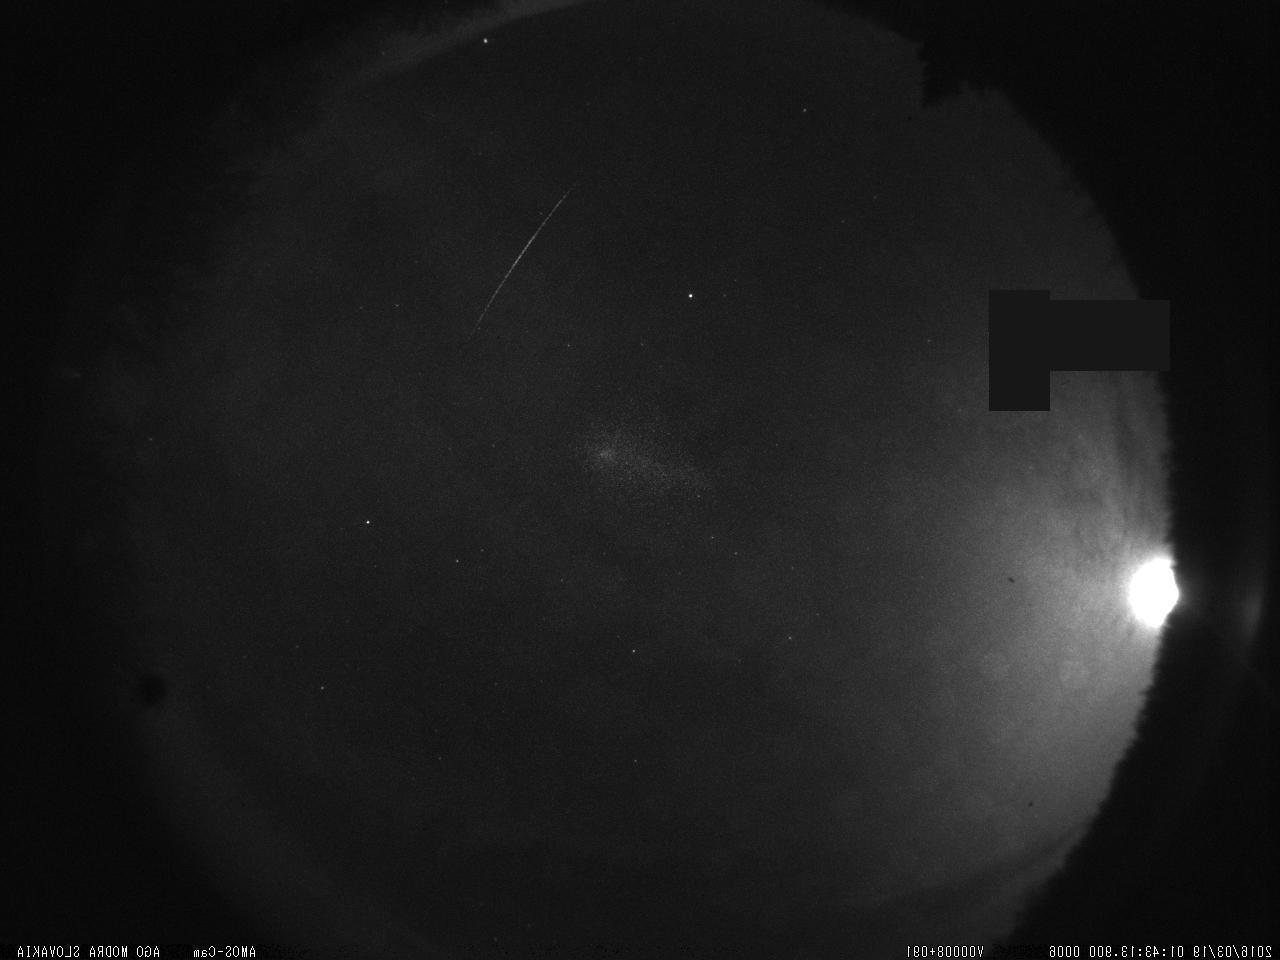meteor: (440, 168, 597, 365)
